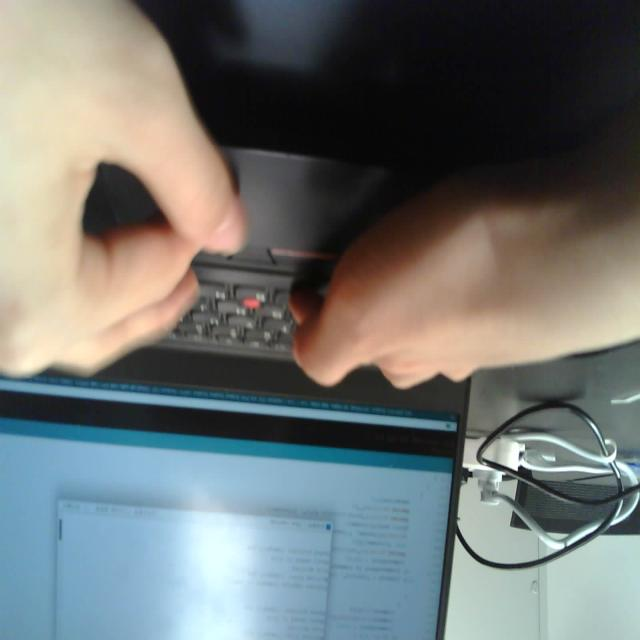keyboard-with-hands: (0, 106, 474, 386)
